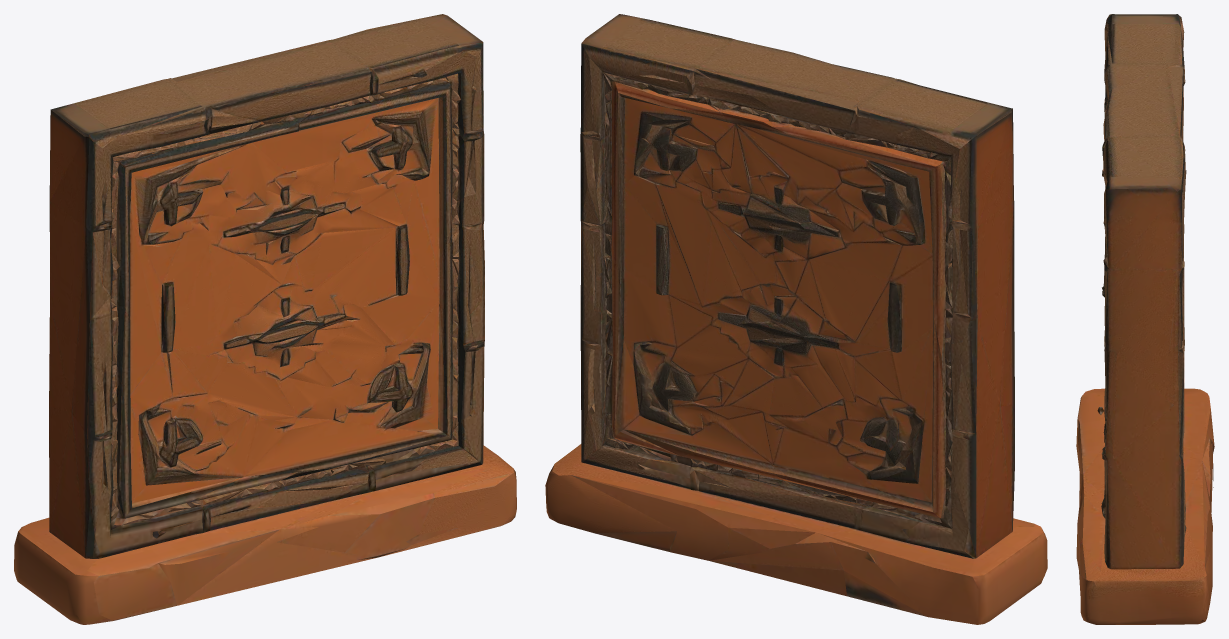
3 renders of one model, left to right at view 1: azimuth 30°, elevation 25°; view 2: azimuth 150°, elevation 25°; view 3: azimuth 270°, elevation 25°, orthographic. The views are drawn at different scales.
Visible parts, largest first — view 1: mesh_node; view 2: mesh_node; view 3: mesh_node.
Boxes of the visible parts, x1,y1,x2,y2 form: mesh_node: (14, 14, 516, 624); mesh_node: (545, 14, 1047, 624); mesh_node: (1076, 14, 1214, 624).
Bounding box in the file's own units: 1.86 × 1.9 × 0.5528.
Materials: 1 (1 with a texture image).
